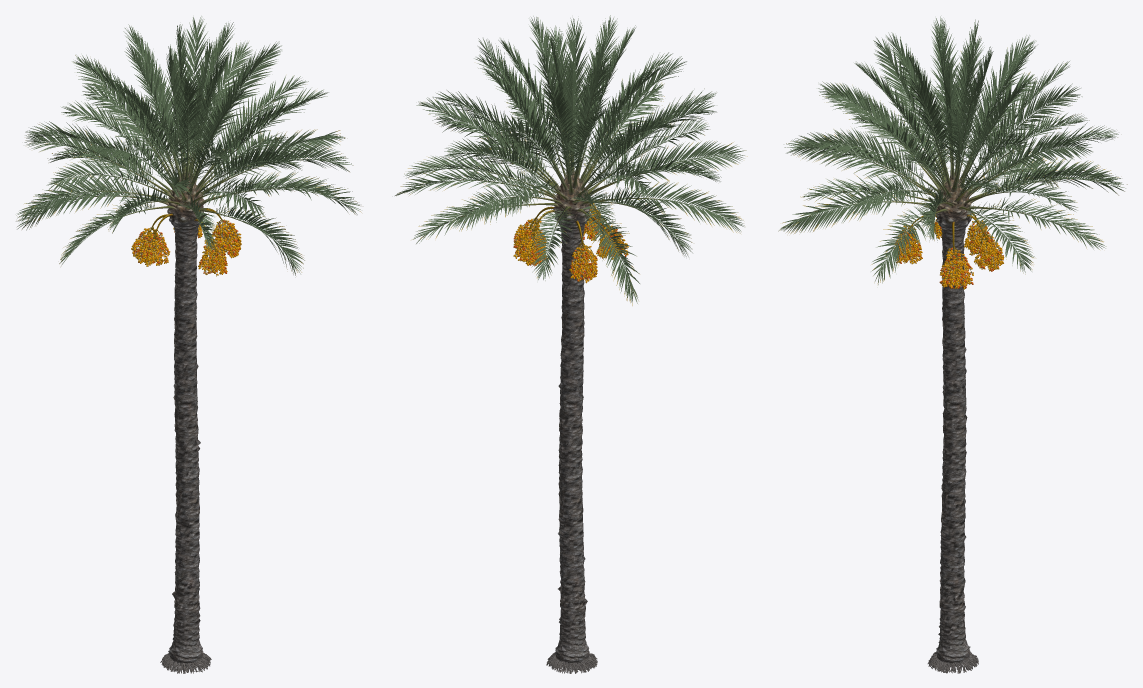
The model's file is date_palm.glb.
The picture shows the model from 3 angles, left to right: view 1: azimuth 30°, elevation 25°; view 2: azimuth 150°, elevation 25°; view 3: azimuth 270°, elevation 25°; orthographic projection.
Parts seen in each view (by area): view 1: Phoenix_dactylifera_HD, Phoenix_dactylifera_HD_Palm fruit 04_0.001; view 2: Phoenix_dactylifera_HD, Phoenix_dactylifera_HD_Palm fruit 04_0.001; view 3: Phoenix_dactylifera_HD, Phoenix_dactylifera_HD_Palm fruit 04_0.001.
Boxes of the visible parts, x1=… form: Phoenix_dactylifera_HD: x1=16, y1=16, x2=361, y2=673; Phoenix_dactylifera_HD_Palm fruit 04_0.001: x1=134, y1=219, x2=241, y2=274; Phoenix_dactylifera_HD: x1=395, y1=15, x2=747, y2=673; Phoenix_dactylifera_HD_Palm fruit 04_0.001: x1=513, y1=218, x2=597, y2=283; Phoenix_dactylifera_HD: x1=778, y1=16, x2=1127, y2=673; Phoenix_dactylifera_HD_Palm fruit 04_0.001: x1=898, y1=220, x2=1003, y2=289.
Size of the model in its own units: 2.27 by 4.52 by 2.3.
10 materials, 10 textured.
